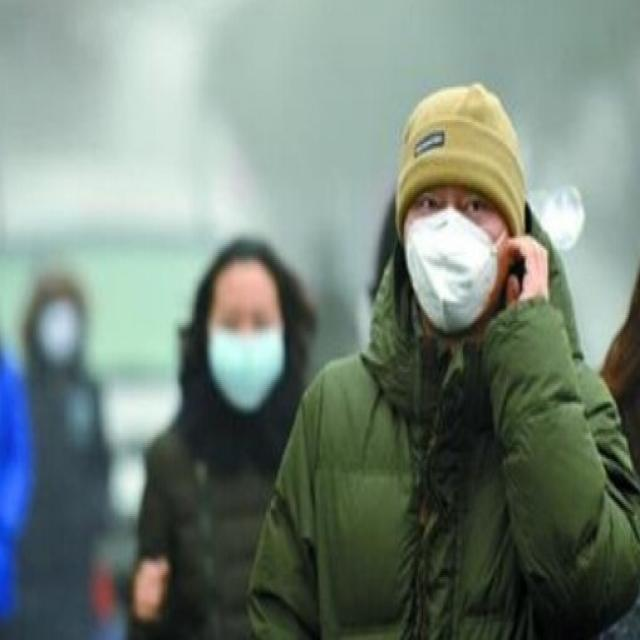mask: (406, 158, 500, 330), (210, 269, 278, 412)
